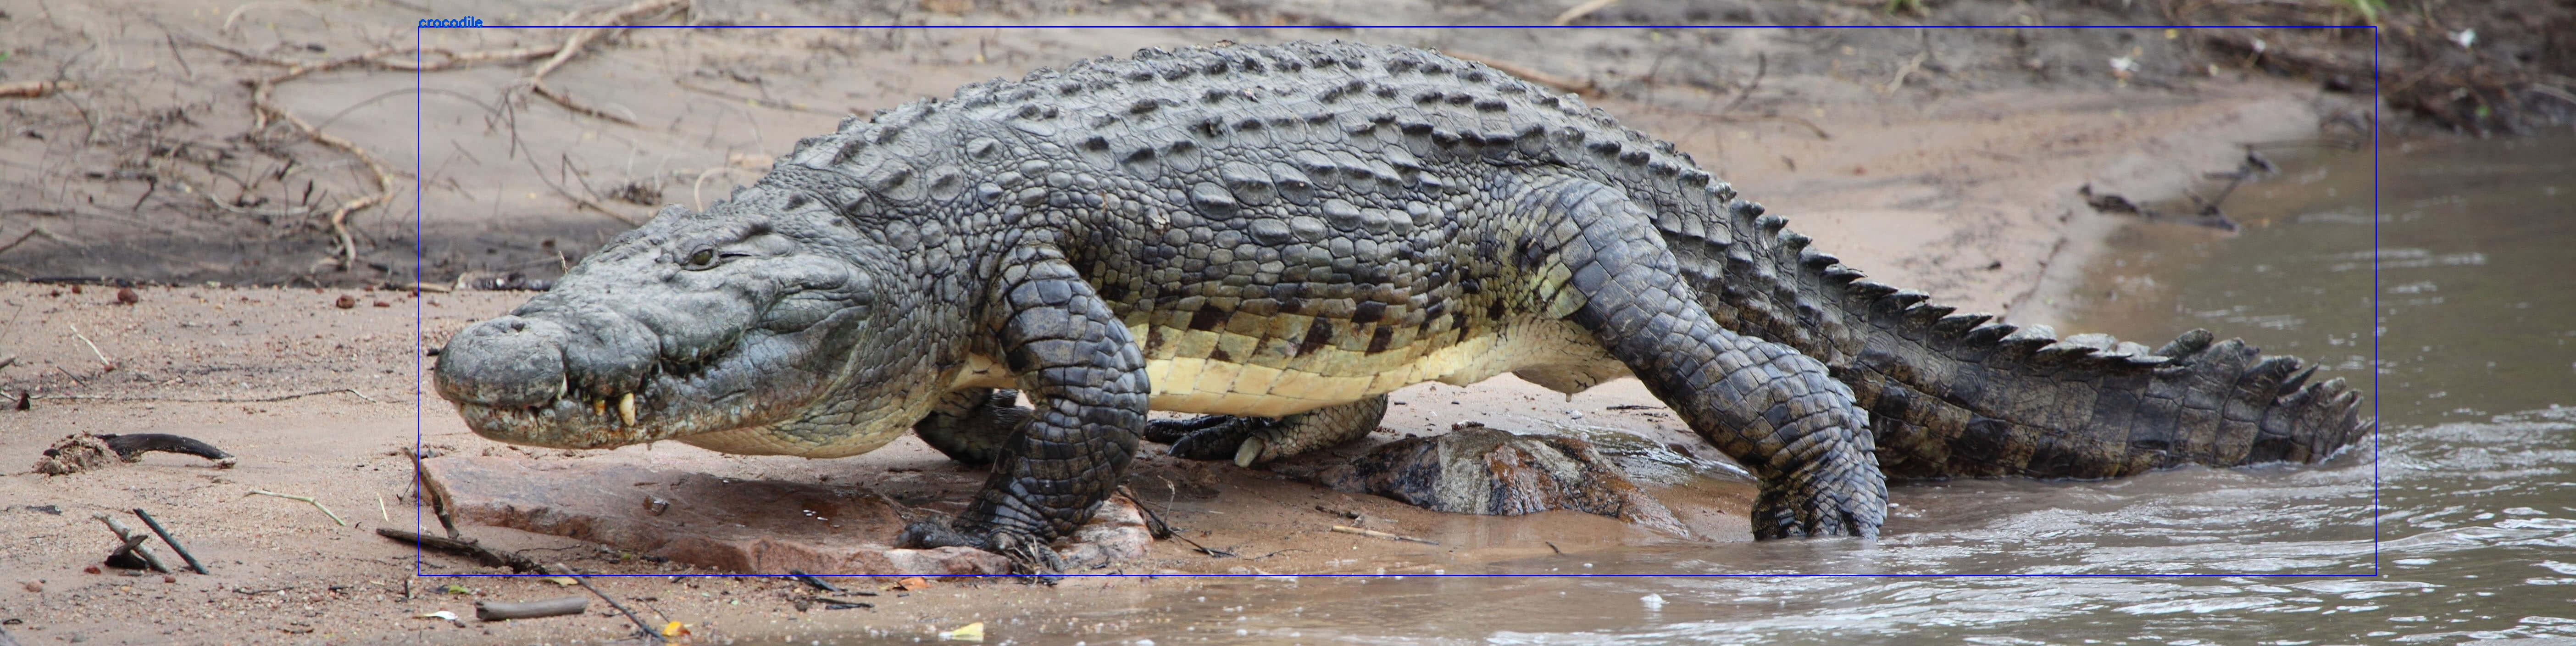crocodile: (417, 26, 2376, 575)
